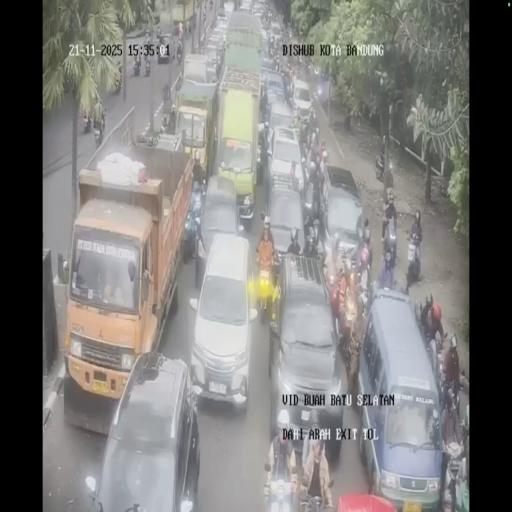car: (356, 286, 442, 505), (89, 352, 199, 509), (268, 256, 342, 454), (196, 172, 241, 281), (320, 168, 364, 264), (264, 184, 306, 268), (266, 100, 297, 152), (291, 76, 313, 123), (262, 70, 286, 111), (204, 40, 222, 77), (316, 72, 330, 104), (260, 56, 276, 76), (259, 27, 269, 58), (252, 0, 264, 18), (216, 5, 228, 22), (270, 21, 282, 37), (240, 0, 252, 13)
motorcycle: (442, 432, 468, 510), (302, 178, 324, 240), (405, 226, 423, 286), (381, 216, 397, 272), (358, 232, 372, 281), (296, 59, 312, 81), (375, 152, 385, 182), (299, 136, 309, 165), (284, 79, 294, 108), (94, 120, 104, 146), (82, 108, 92, 134), (112, 69, 122, 94), (143, 30, 152, 52), (162, 82, 171, 102), (156, 28, 164, 47), (133, 56, 140, 76), (144, 57, 150, 76), (170, 43, 176, 62), (176, 47, 182, 65), (185, 18, 191, 36), (202, 5, 207, 22), (209, 0, 213, 11)
truck: (174, 71, 218, 179), (221, 8, 263, 78), (171, 3, 186, 24)
